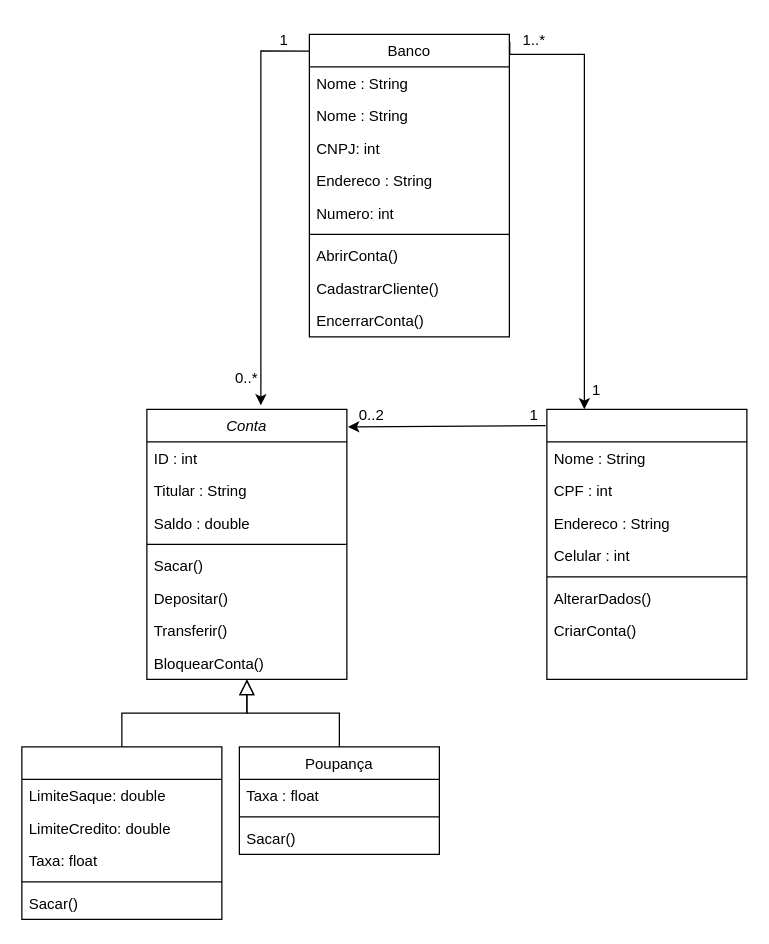
Image size: 769x944. Some labels were removed from this diagram. Here are the shapes that lost their labels. From the top down, the box of each, then its label:
(546, 408, 747, 679): Cliente
(21, 746, 222, 919): Corrente
